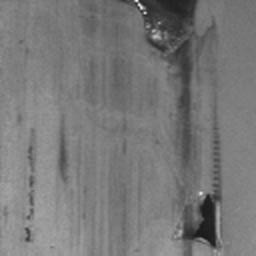Slag inclusion: (116, 0, 227, 256), (22, 127, 38, 242), (58, 114, 72, 184), (3, 206, 8, 224)
